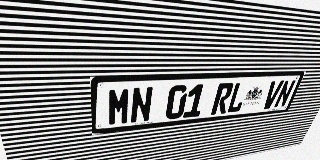0: (165, 85, 189, 120)
1: (183, 84, 207, 118)
L: (226, 82, 250, 113)
M: (108, 87, 131, 126)
N: (130, 86, 154, 124), (273, 80, 296, 108)
R: (210, 83, 235, 115)
V: (261, 80, 284, 109)
